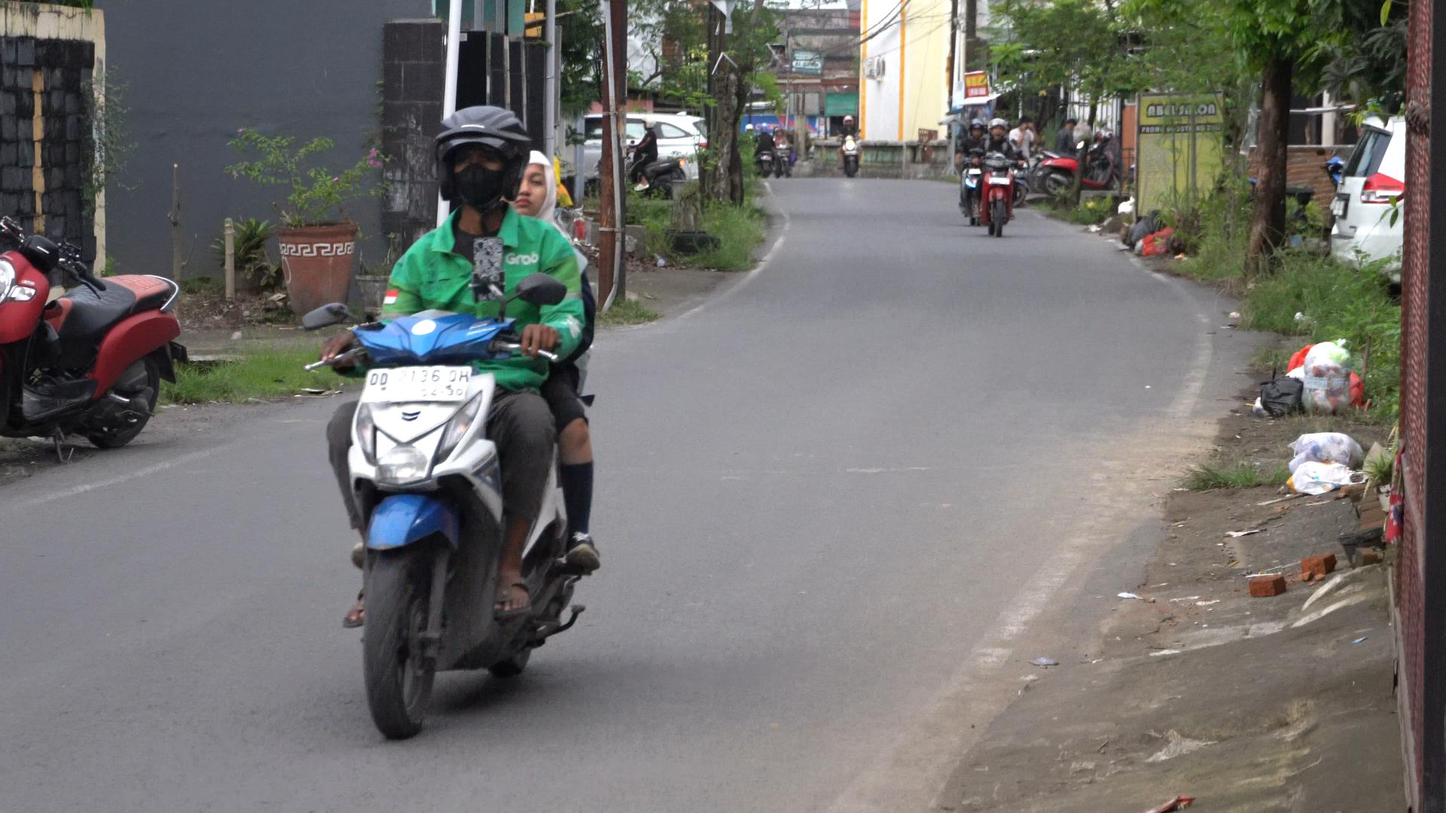number-plate: (366, 369, 476, 405)
